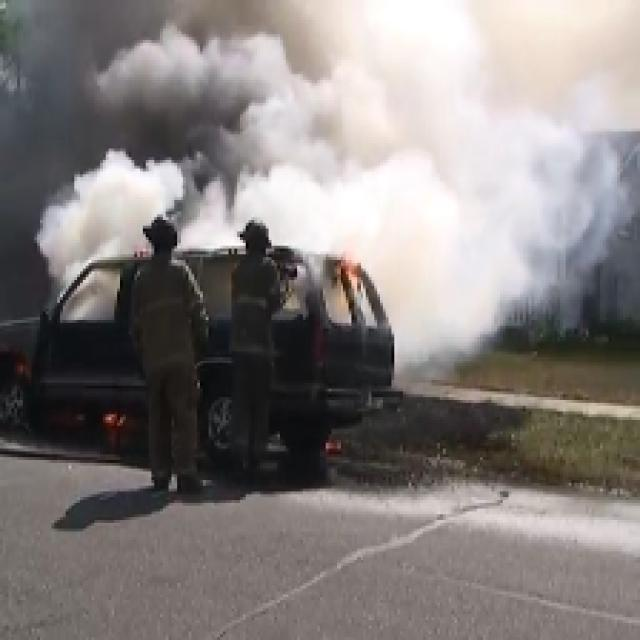Smoke: (354, 13, 556, 286), (96, 3, 330, 234)
